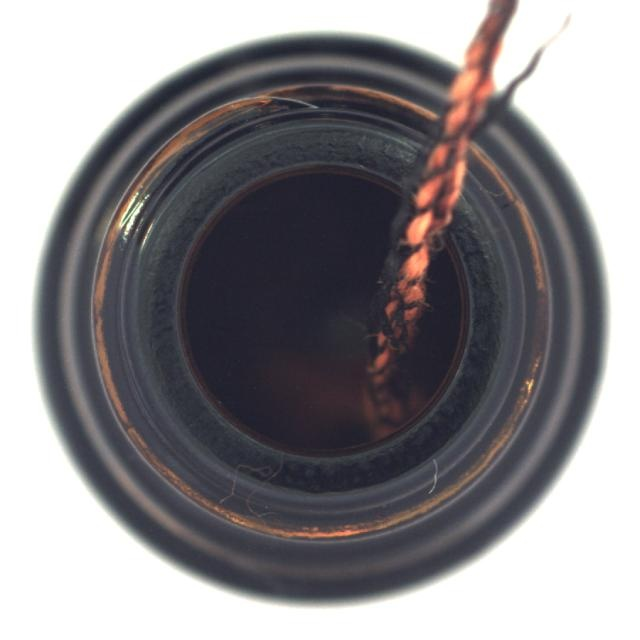bad-contamination: (31, 31, 610, 610)
